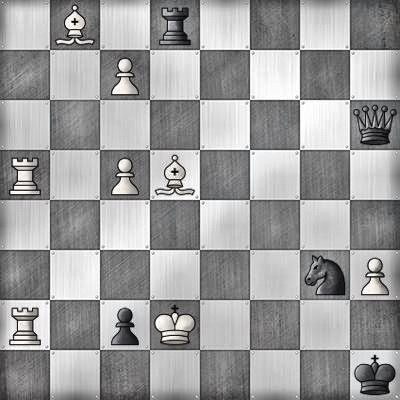black-king: (350, 350, 400, 400)
black-knight: (300, 250, 350, 300)
black-pawn: (100, 300, 150, 350)
black-queen: (350, 100, 400, 150)
black-rook: (150, 0, 200, 50)
white-bishop: (50, 0, 100, 50), (150, 150, 200, 200)
white-king: (150, 300, 200, 350)
white-pawn: (100, 50, 150, 100), (100, 150, 150, 200), (350, 250, 400, 300)
white-rook: (0, 150, 50, 200), (0, 300, 50, 350)
